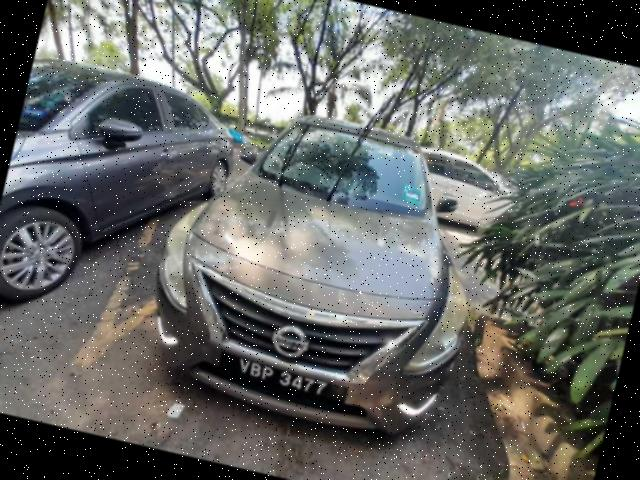License_Plate: (231, 355, 351, 405)
car: (132, 86, 506, 452)
